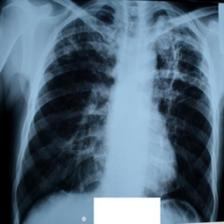tuberculosis: (14, 2, 220, 224)
